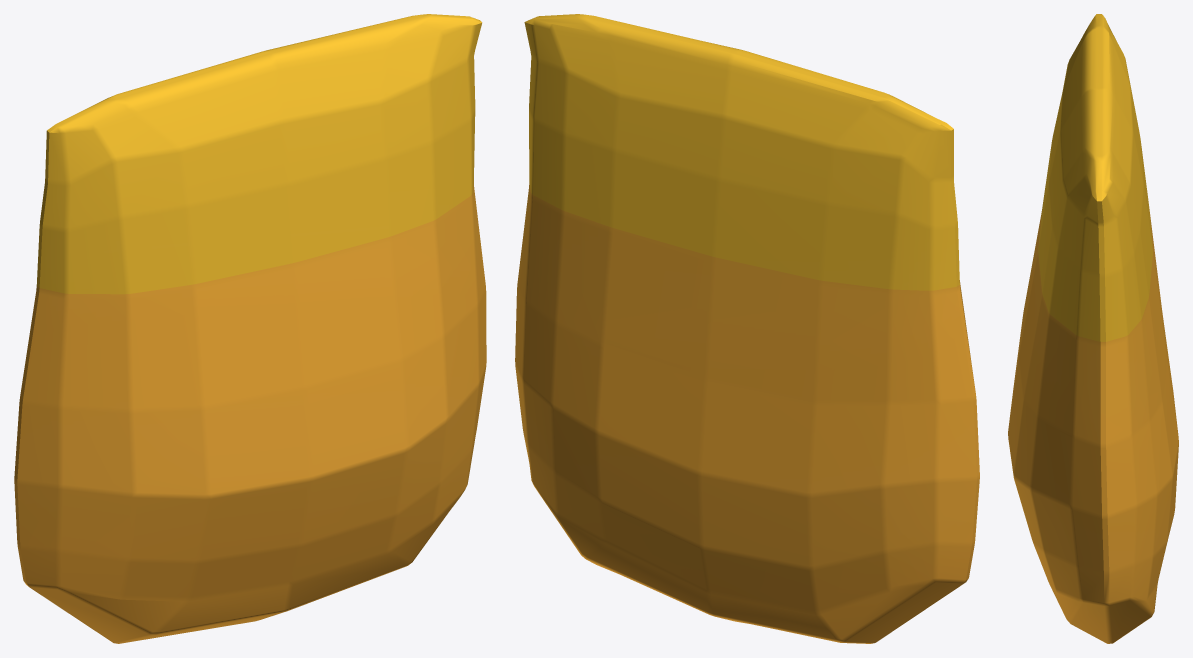
The model's file is Ürün17.fbx.
The picture shows the model from 3 angles, left to right: view 1: azimuth 30°, elevation 25°; view 2: azimuth 150°, elevation 25°; view 3: azimuth 270°, elevation 25°; orthographic projection. The views are drawn at different scales.
Parts seen in each view (by area): view 1: pCube80; view 2: pCube80; view 3: pCube80.
Boxes of the visible parts, x1,y1,x2,y2 form: pCube80: [14, 14, 486, 643]; pCube80: [515, 14, 979, 643]; pCube80: [1008, 14, 1178, 643].
Bounding box in the file's own units: 10.11 × 11.75 × 3.53.
